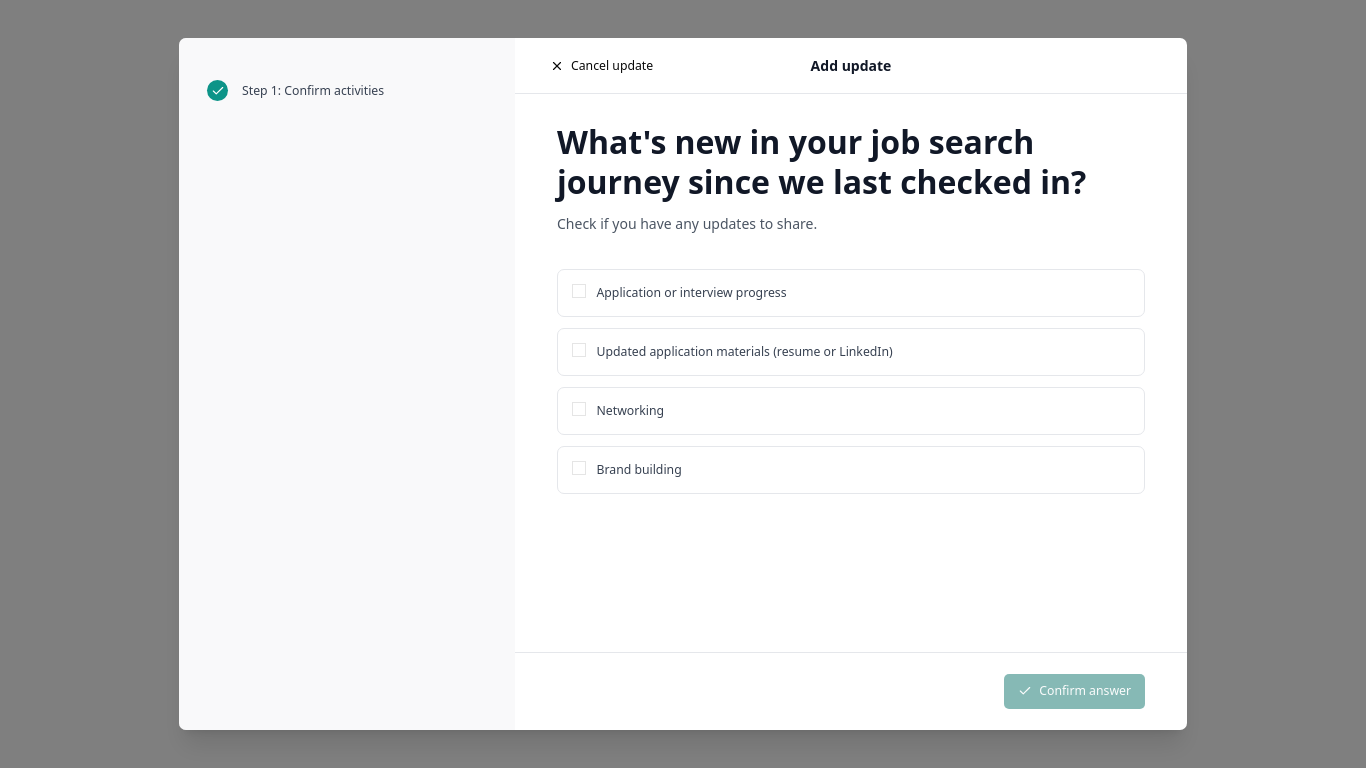
Test case: CareerUpdateWizard › Step 1: Activity Selection › should enable Confirm answer button when activity is selected
Expected: the button "Confirm answer" is disabled, [1004, 674, 1145, 709]
Click the checkbox named "application or interview progress" next to "Application or interview progress" at (579, 291), box [572, 284, 586, 298]
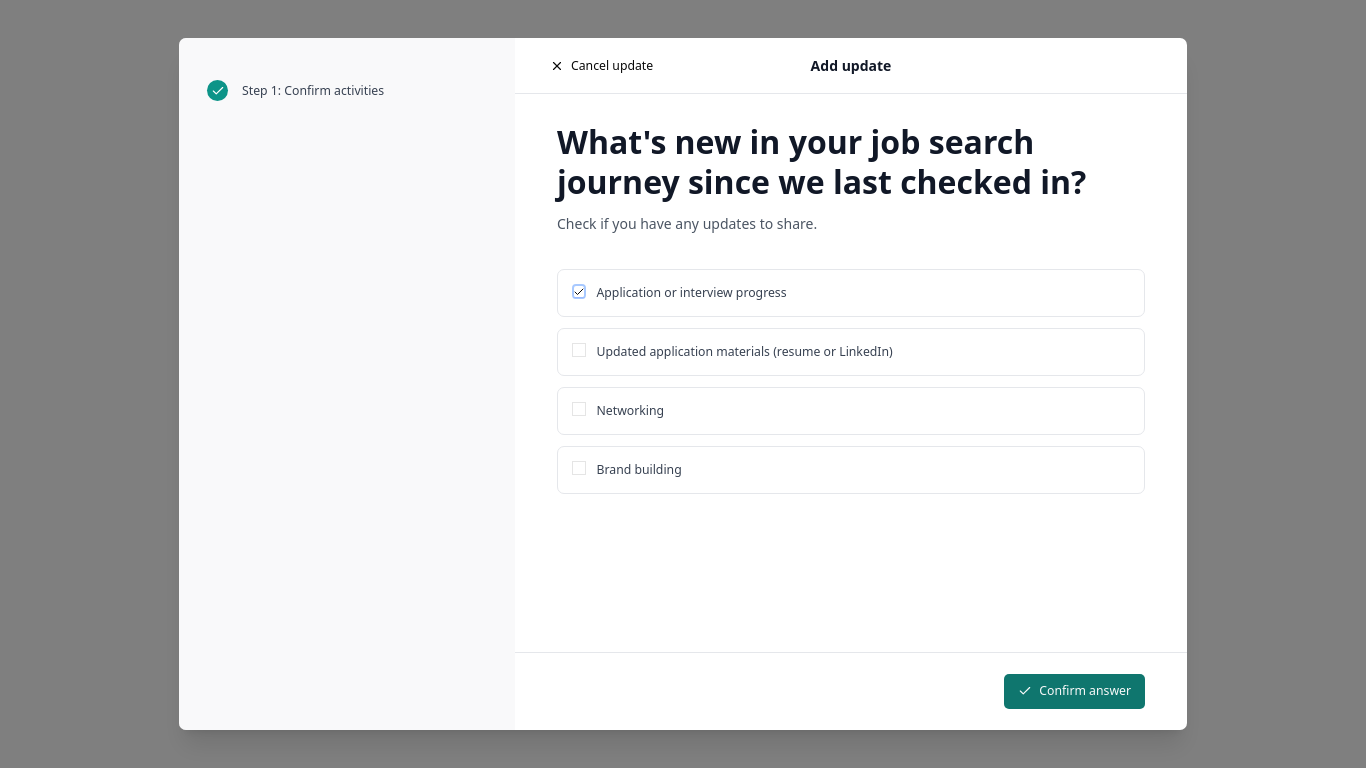
Result: the button "Confirm answer" is enabled at [1004, 674, 1145, 709]
